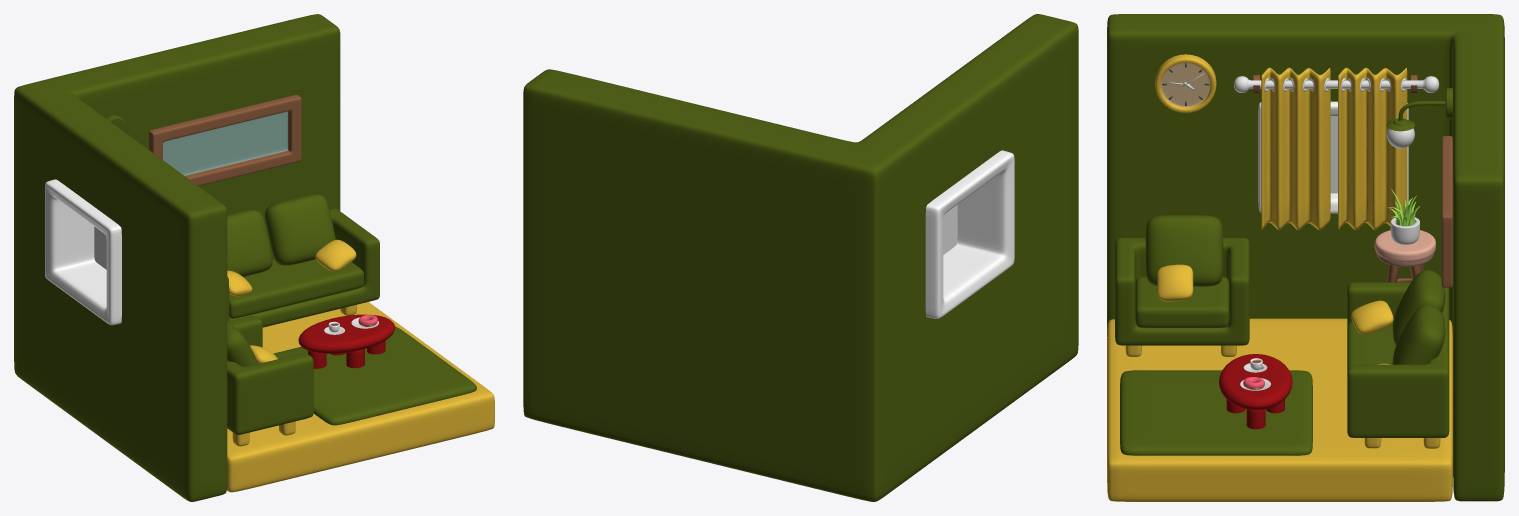
Rendered from MiniRoom.fbx.
3 views of the same model, side by side, from view 1: azimuth 30°, elevation 25°; view 2: azimuth 150°, elevation 25°; view 3: azimuth 270°, elevation 25° (orthographic). The views are drawn at different scales.
Parts seen in each view (by area): view 1: Wall, Floor, Rug, 立方体, Couch.003, Window, Couch.006, cusion.003, CoffeeTable, cusion.002, 立方体.003, cusion.004; view 2: Wall, Window; view 3: Wall, Floor, Rug, Couch.003, Curtain, Couch.006, Curtain.001, cusion.004, CoffeeTable, cLOCK, cusion.003, 立方体 (+10 smaller).
Part boxes in pixels (<box>): Wall: <box>14,14,340,501</box>; Floor: <box>226,302,494,492</box>; Rug: <box>273,326,476,425</box>; 立方体: <box>148,95,301,186</box>; Couch.003: <box>227,208,379,327</box>; Window: <box>45,179,121,325</box>; Couch.006: <box>227,316,313,434</box>; cusion.003: <box>265,194,335,265</box>; CoffeeTable: <box>298,314,395,368</box>; cusion.002: <box>227,210,272,276</box>; 立方体.003: <box>315,239,356,271</box>; cusion.004: <box>227,322,258,366</box>; Wall: <box>523,14,1078,501</box>; Window: <box>925,150,1014,318</box>; Wall: <box>1107,14,1504,501</box>; Floor: <box>1107,318,1452,501</box>; Rug: <box>1120,370,1312,455</box>; Couch.003: <box>1347,282,1449,437</box>; Curtain: <box>1261,67,1330,230</box>; Couch.006: <box>1115,237,1249,345</box>; Curtain.001: <box>1338,67,1407,230</box>; cusion.004: <box>1145,215,1223,286</box>; CoffeeTable: <box>1219,354,1292,429</box>; cLOCK: <box>1155,54,1216,112</box>; cusion.003: <box>1392,304,1445,364</box>; 立方体: <box>1441,136,1452,287</box>.
Size of what is drawn, in the model's own units: 363 by 316 by 351.
